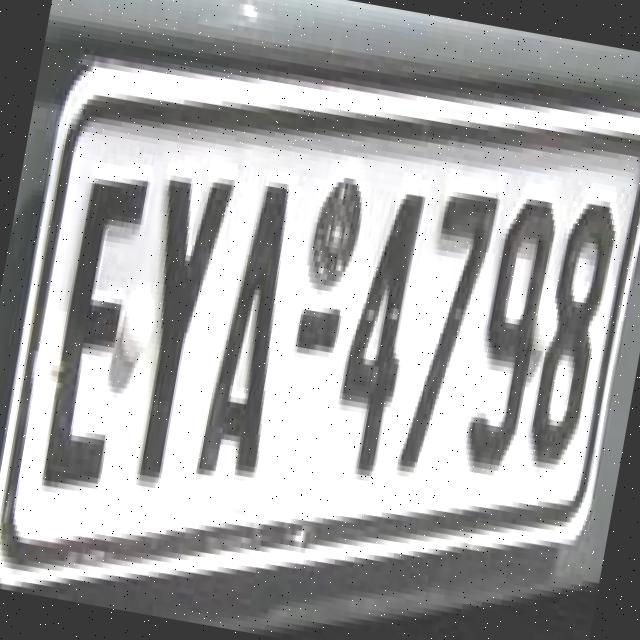Autre: (2, 113, 640, 539)
